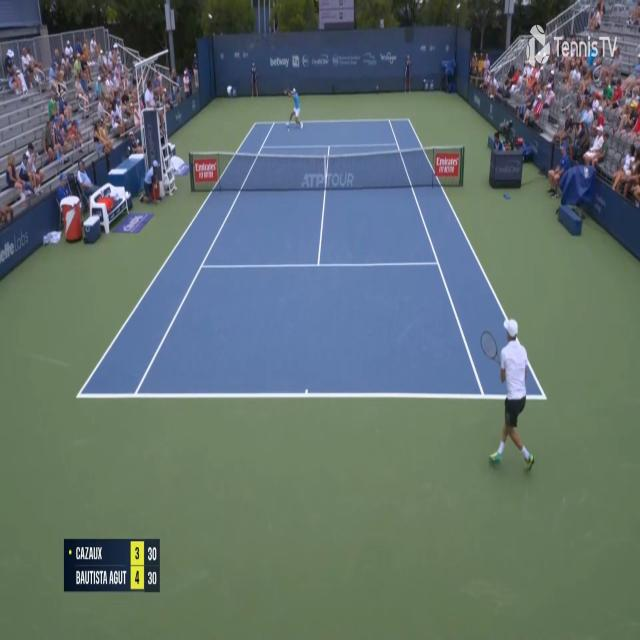tennis-player: (487, 316, 549, 479), (284, 85, 304, 134)
